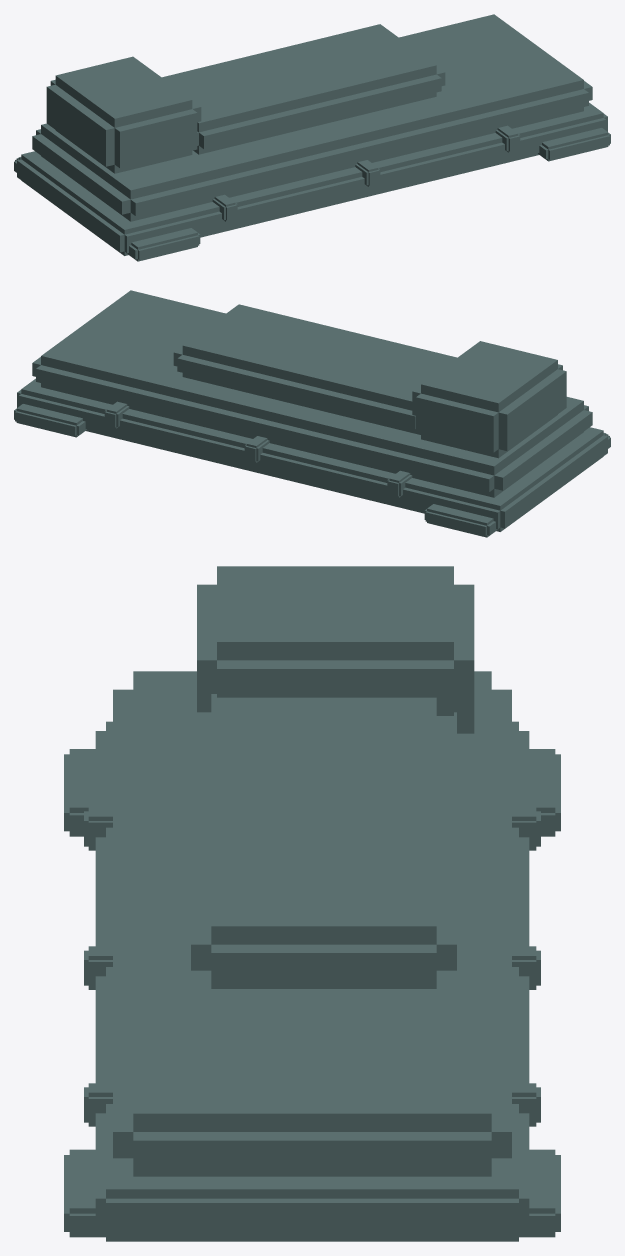
File: HUM-03_SoporteLateral.fbx
3 renders of one model, top to bottom at view 1: azimuth 30°, elevation 25°; view 2: azimuth 150°, elevation 25°; view 3: azimuth 270°, elevation 25°, orthographic. The views are drawn at different scales.
Parts seen in each view (by area): view 1: GEO-HUM-03_SoporteLateral.001; view 2: GEO-HUM-03_SoporteLateral.001; view 3: GEO-HUM-03_SoporteLateral.001.
Part boxes in pixels (<box>): GEO-HUM-03_SoporteLateral.001: <box>14,14,610,261</box>; GEO-HUM-03_SoporteLateral.001: <box>14,290,610,537</box>; GEO-HUM-03_SoporteLateral.001: <box>64,566,560,1241</box>.
Size of the model in its own units: 1.95 by 0.43 by 0.86.
